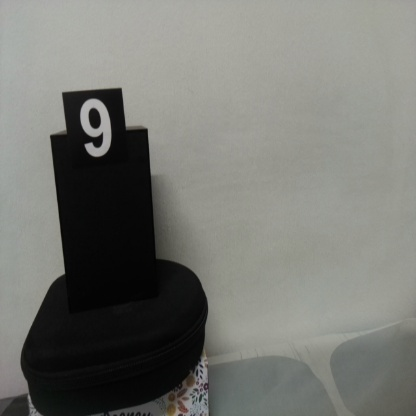id_9: (61, 92, 126, 172)
